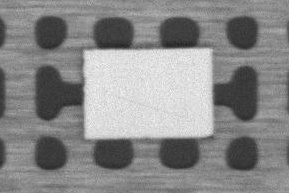DIE_CRACK: (168, 63, 279, 79)
